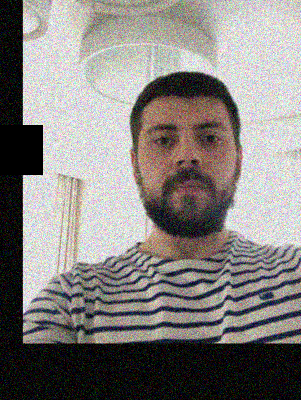without_mask: (140, 114, 234, 240)
